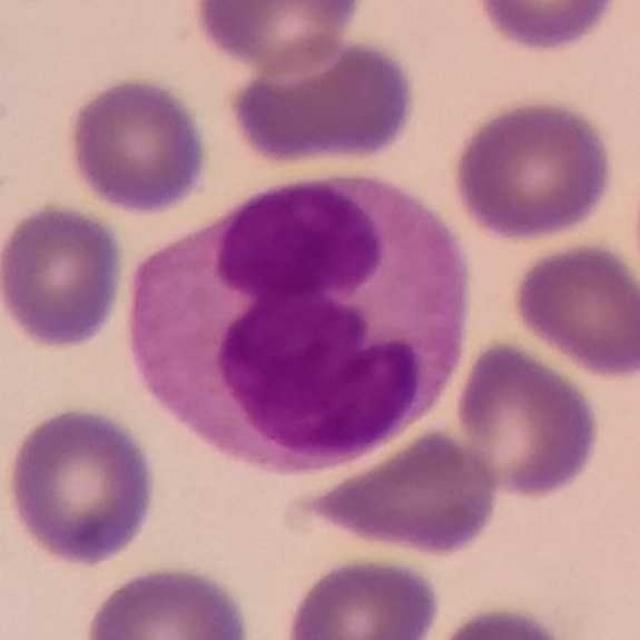Monocyte: (120, 178, 482, 474)
RBC: (286, 424, 508, 560), (221, 30, 422, 169), (1, 402, 160, 570), (447, 92, 619, 244), (451, 335, 604, 503), (62, 73, 214, 218), (0, 198, 129, 354), (507, 237, 640, 381), (279, 551, 444, 640), (79, 560, 256, 640), (188, 0, 367, 76), (465, 0, 629, 56), (421, 600, 583, 640)
